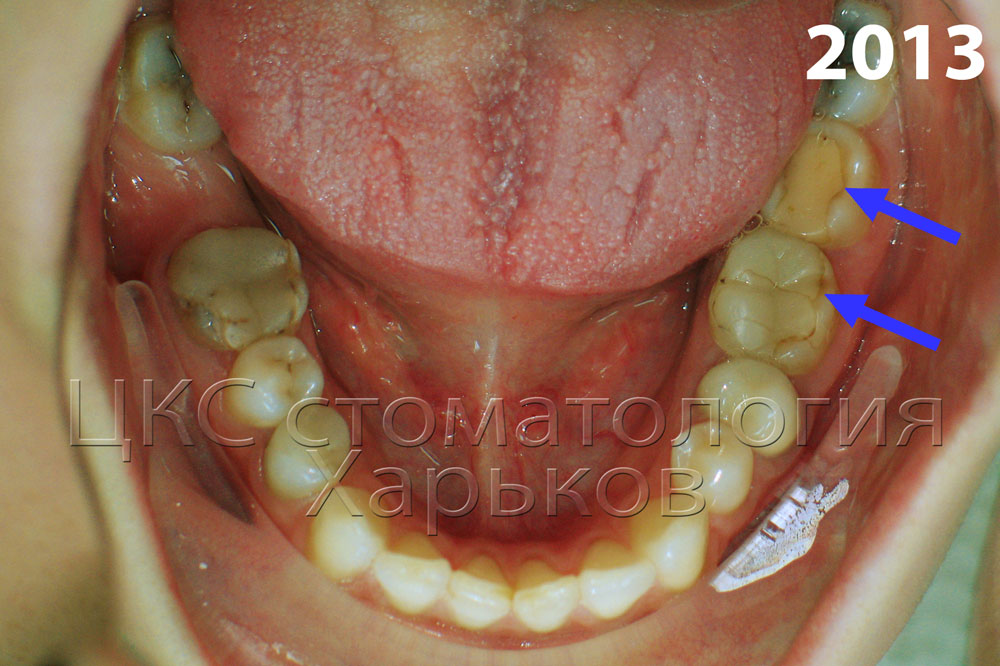LL1BC_decay: (663, 421, 750, 517)
LL1M_decay: (700, 240, 843, 377)
LL2BC_decay: (691, 359, 802, 456)
LL2M_decay: (753, 117, 888, 262)
LL3M_decay: (799, 1, 903, 127)
LLCI_healthy: (512, 557, 577, 644)
LLC_decay: (620, 493, 705, 598)
LLLI_healthy: (574, 536, 658, 621)
LR1BC_decay: (259, 401, 356, 508)
LR1M_decay: (167, 228, 307, 352)
LR2BC_decay: (221, 341, 328, 433)
LR3M_decay: (109, 18, 220, 160)
LRCI_healthy: (447, 558, 508, 624)
LRC_decay: (312, 480, 399, 578)
LRLI_healthy: (367, 538, 449, 621)
